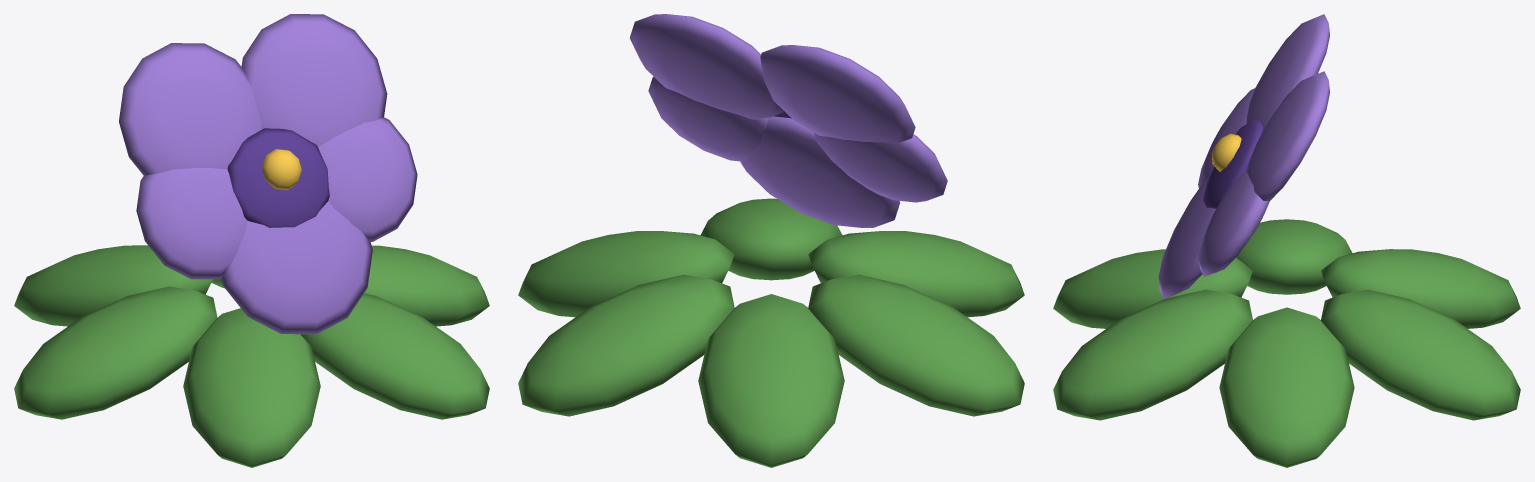
File: pansy.glb
3 renders of one model, left to right at view 1: azimuth 30°, elevation 25°; view 2: azimuth 150°, elevation 25°; view 3: azimuth 270°, elevation 25°, orthographic. The views are drawn at different scales.
Parts seen in each view (by area): view 1: flower; view 2: flower; view 3: flower.
Part boxes in pixels (<box>): flower: <box>14,14,489,467</box>; flower: <box>518,14,1024,467</box>; flower: <box>1053,14,1520,467</box>.
Size of the model in its own units: 0.2746 by 0.1787 by 0.242.
